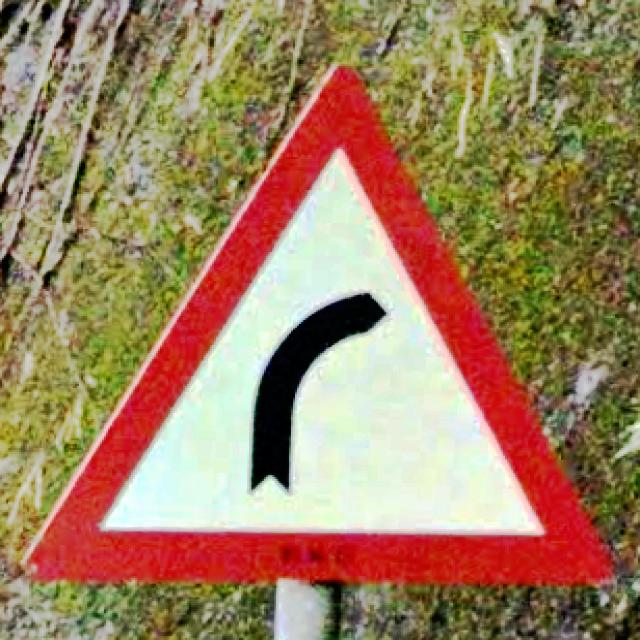rightbend: (25, 68, 613, 588)
